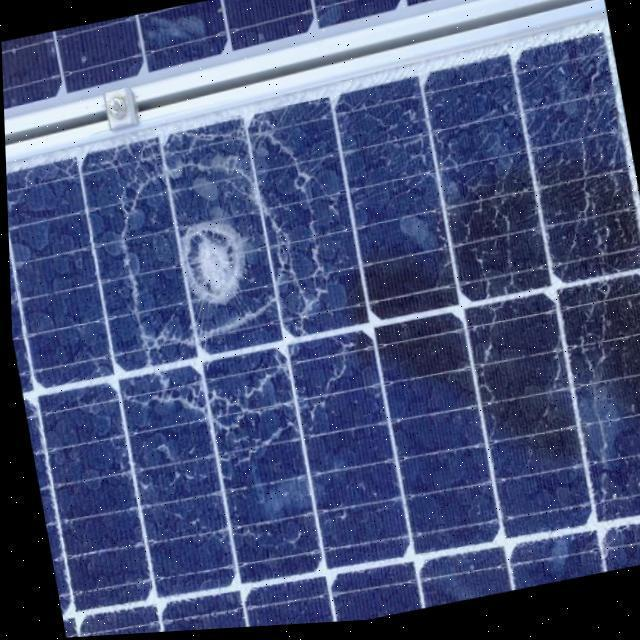Anomaly Solar Panel: (5, 41, 640, 638)
Structural Damage: (98, 131, 429, 511), (106, 148, 301, 366), (542, 112, 613, 373), (466, 212, 520, 441), (172, 218, 248, 313), (573, 342, 611, 520)
